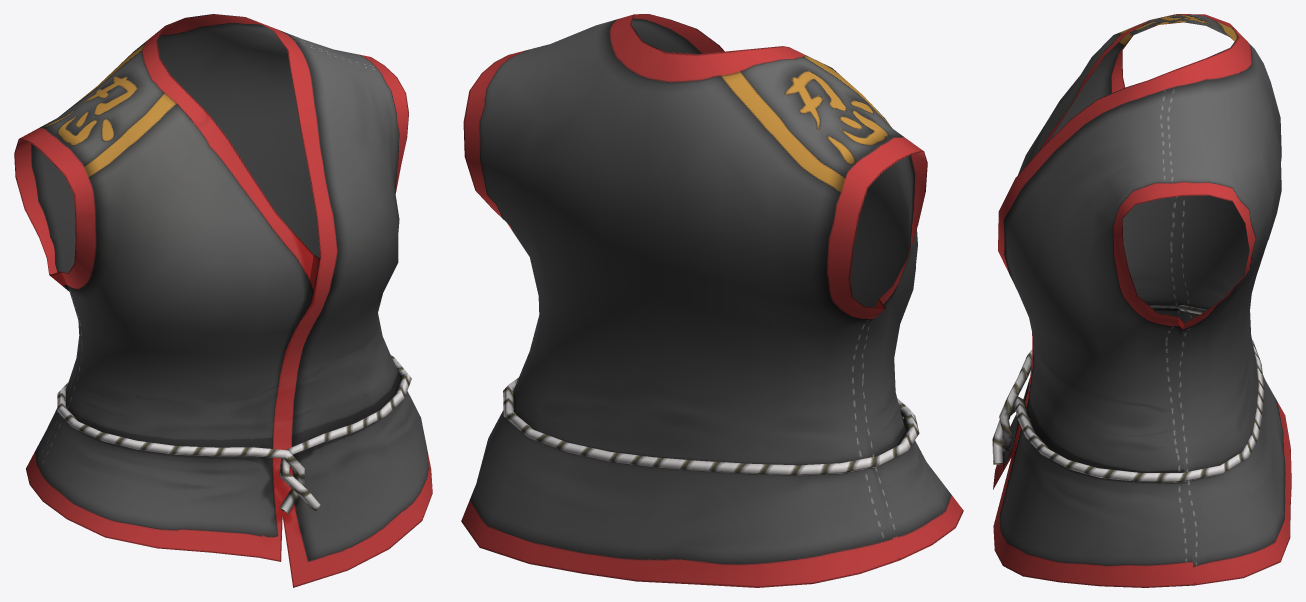
The model's file is ninjassuit.glb.
3 renders of one model, left to right at view 1: azimuth 30°, elevation 25°; view 2: azimuth 150°, elevation 25°; view 3: azimuth 270°, elevation 25°, orthographic. The views are drawn at different scales.
Parts seen in each view (by area): view 1: ninjassuit; view 2: ninjassuit; view 3: ninjassuit.
Boxes of the visible parts, x1=… form: ninjassuit: x1=14, y1=14, x2=432, y2=587; ninjassuit: x1=461, y1=14, x2=963, y2=587; ninjassuit: x1=992, y1=14, x2=1291, y2=587.
Size of the model in its own units: 0.4567 by 0.5631 by 0.3079.
1 material, 1 textured.
